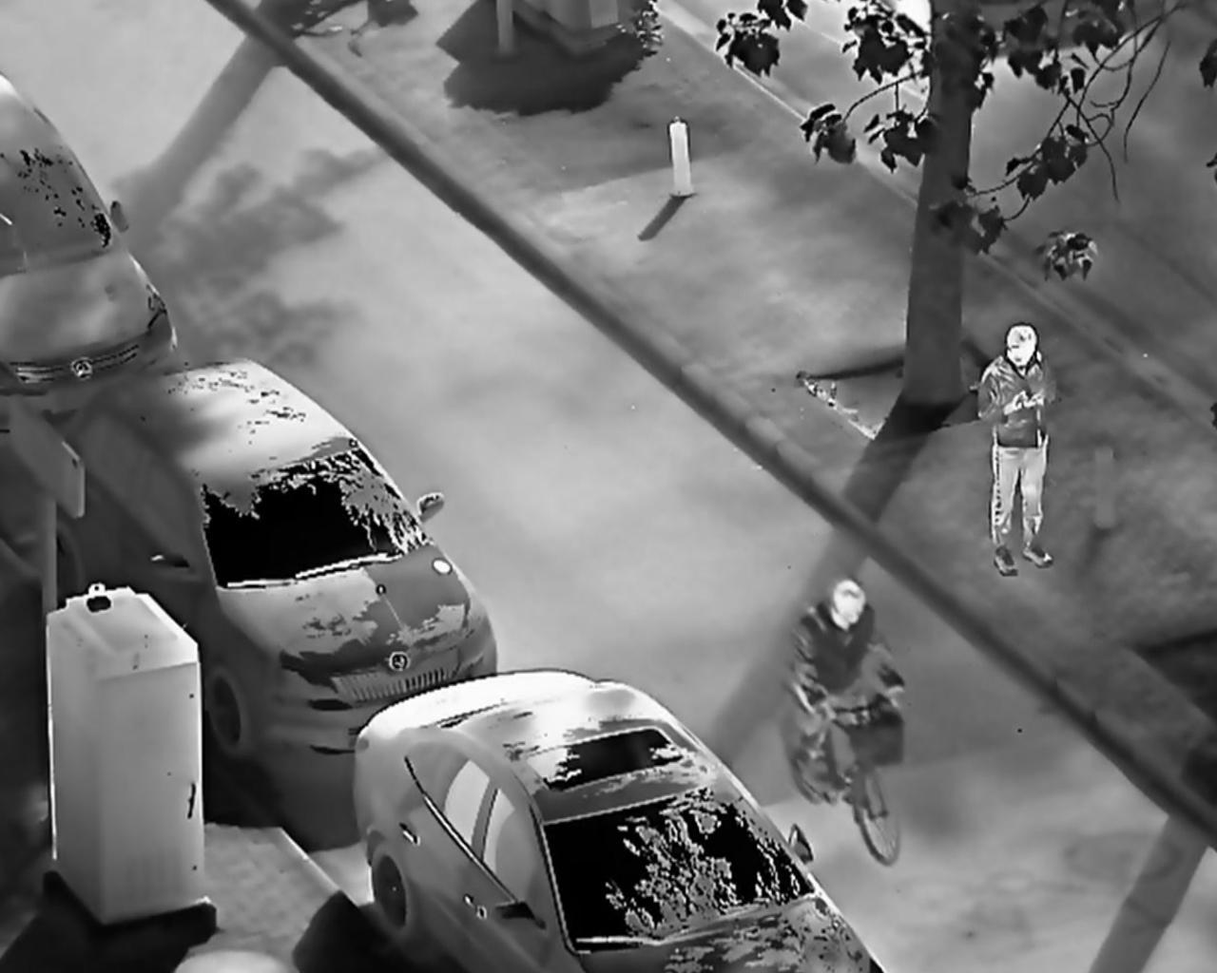person: (972, 318, 1067, 582), (788, 575, 908, 783)
